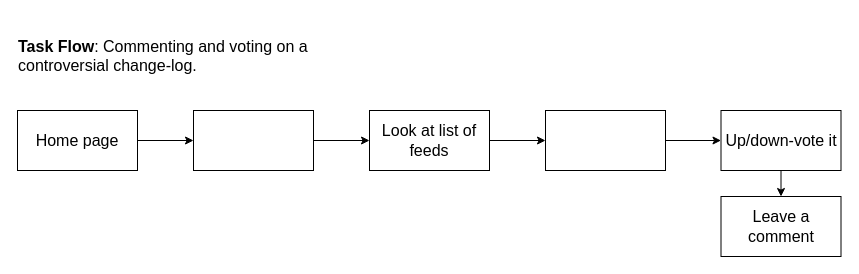
Some shapes in this 859 by 274 pixel diagram are drawn without their labels. The centre of each missing label's shape, as x and y in pixels:
"See one that is interesting and controversial" goes at [605,140].
"Select JavaScript feed" goes at [253,140].
